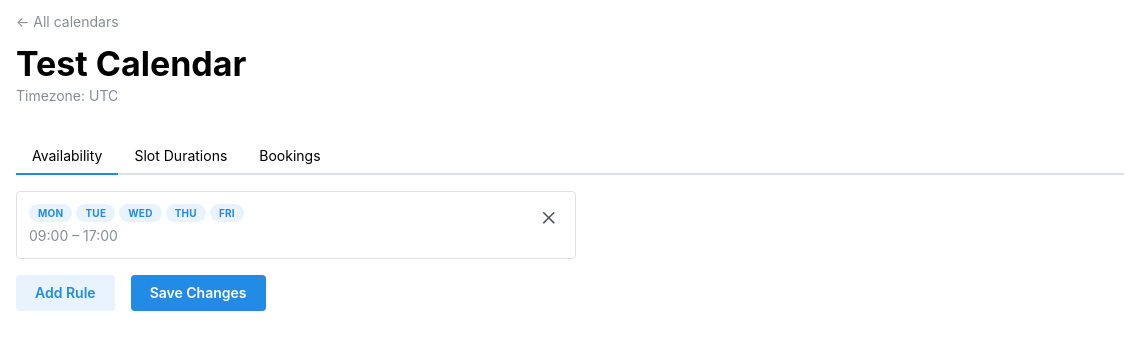
Test case: ManagePage › Bookings tab › shows a cancel button for confirmed bookings
The width and height of the screenshot is (1141, 347).
Expected: the heading "Test Calendar" is shown, [16,43,246,84]
Click the tab "Bookings": (290,157) [243,139,337,175]
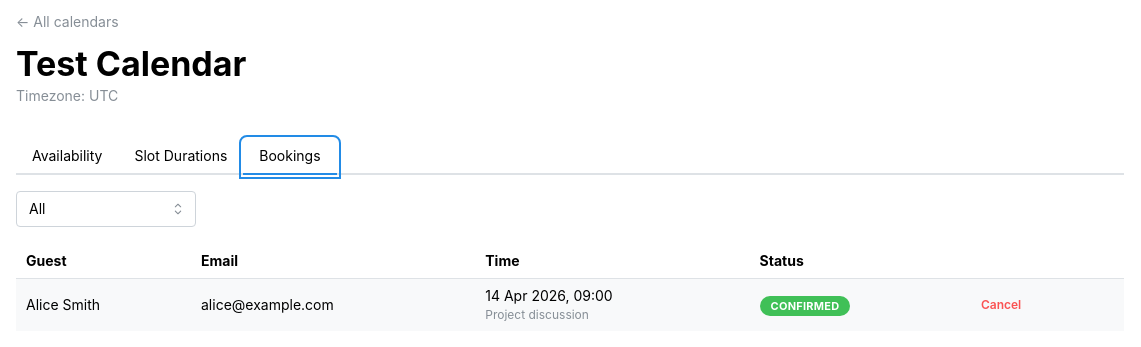
Now the text "Alice Smith" is shown, box [16,279,191,331]
Now the button "Cancel" is shown, box [966,290,1036,320]
